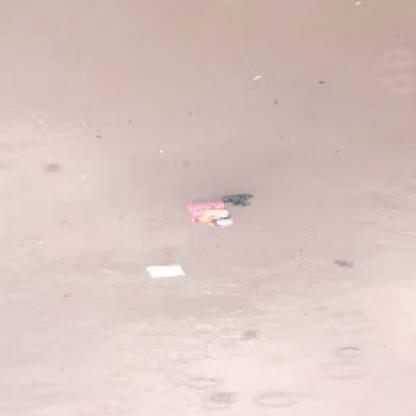Trash: (182, 193, 236, 232), (145, 261, 186, 279)
